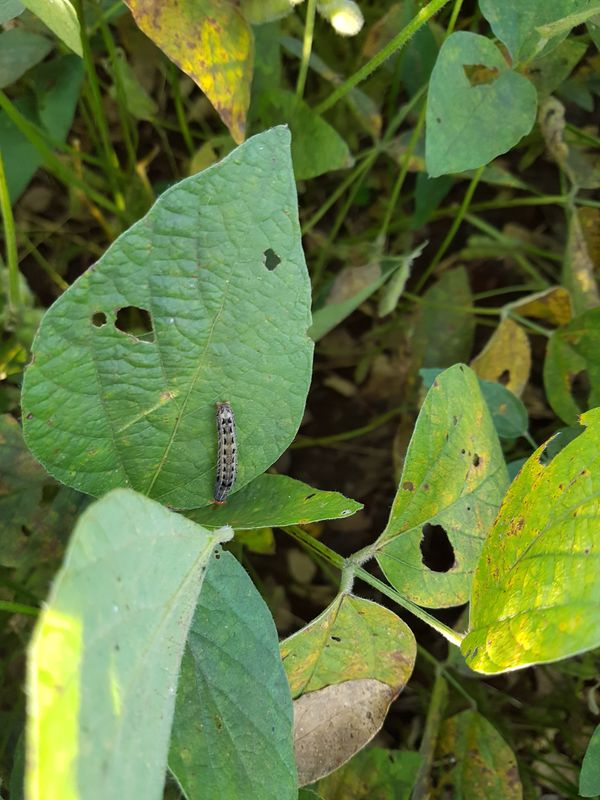Spodoptera_albula: (175, 392, 275, 517)
